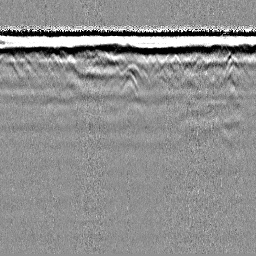cavity: (119, 60, 142, 78)
